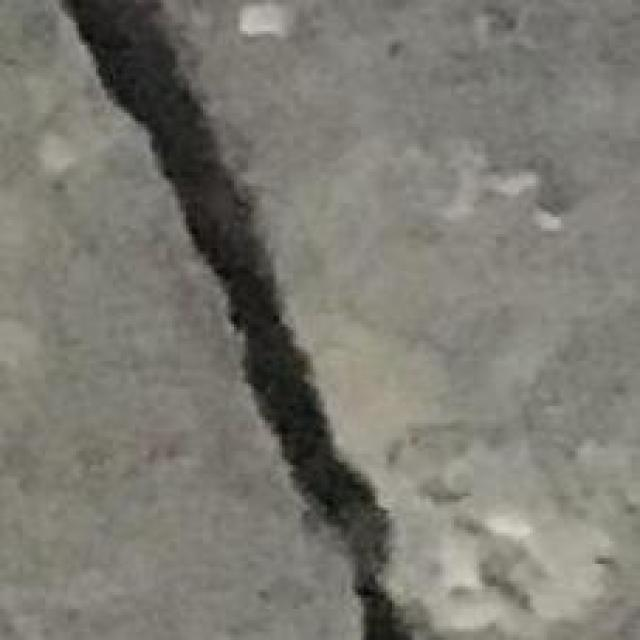Diagonal: (49, 0, 422, 640)
